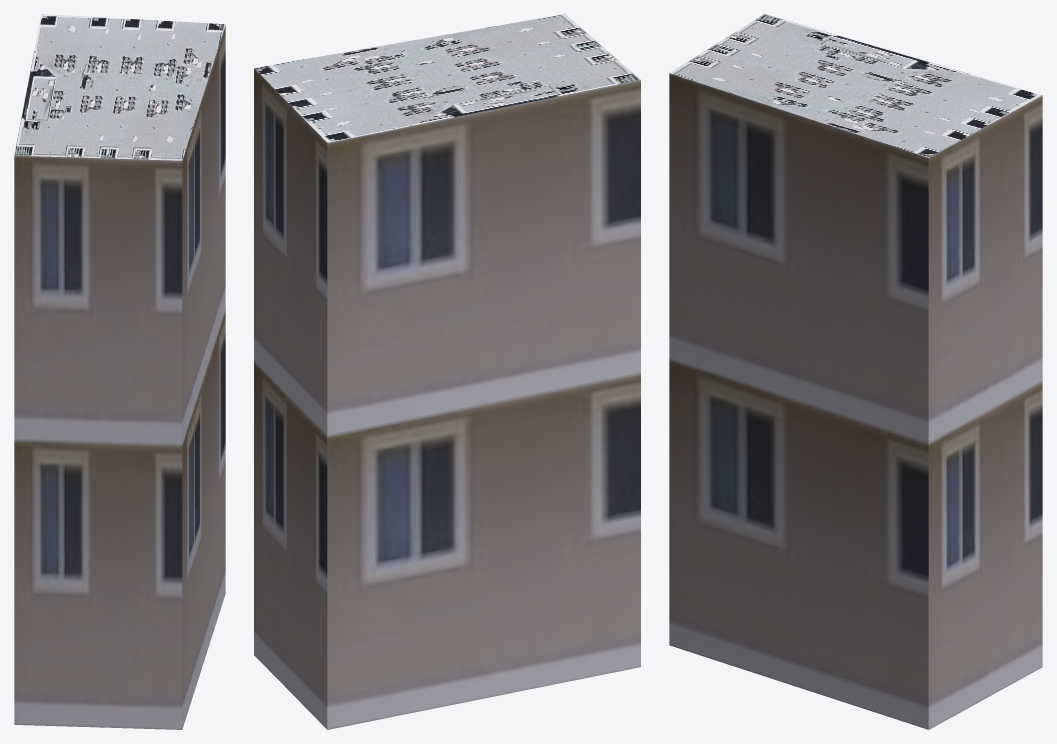
The model's file is ResTex__1098.fbx.
The picture shows the model from 3 angles, left to right: view 1: azimuth 30°, elevation 25°; view 2: azimuth 150°, elevation 25°; view 3: azimuth 270°, elevation 25°; orthographic projection. The views are drawn at different scales.
Parts seen in each view (by area): view 1: CityEngineMaterial_21_m, CityEngineMaterial_8_m; view 2: CityEngineMaterial_21_m, CityEngineMaterial_8_m; view 3: CityEngineMaterial_21_m, CityEngineMaterial_8_m.
Boxes of the visible parts, left/top/right/bottom form: CityEngineMaterial_21_m: left=14, top=25, right=225, bottom=729; CityEngineMaterial_8_m: left=14, top=14, right=225, bottom=160; CityEngineMaterial_21_m: left=254, top=68, right=640, bottom=729; CityEngineMaterial_8_m: left=254, top=14, right=640, bottom=142; CityEngineMaterial_21_m: left=669, top=73, right=1042, bottom=729; CityEngineMaterial_8_m: left=669, top=14, right=1042, bottom=157.
Size of the model in its own units: 3.24 by 6 by 3.55.
2 materials, 2 textured.
